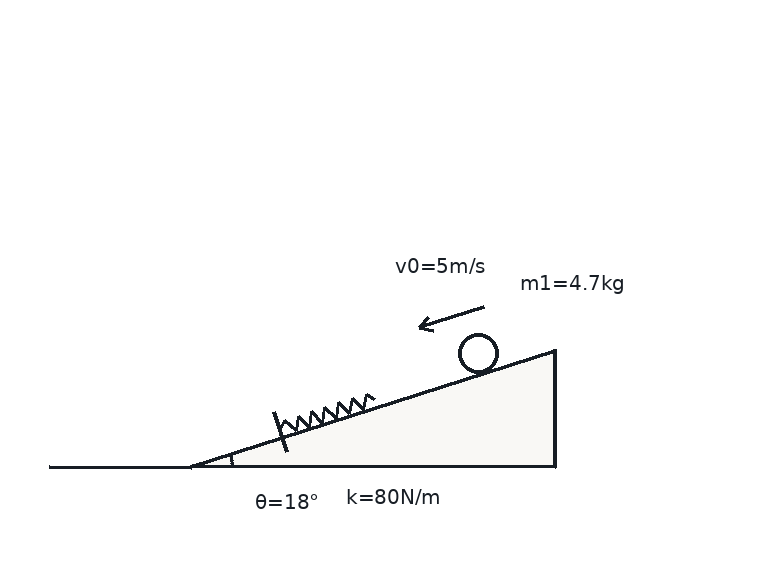ball: (456, 331, 500, 375)
ramp: (190, 347, 556, 469)
spring: (278, 392, 376, 433)
